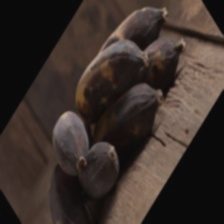banana: (0, 42, 188, 192)
